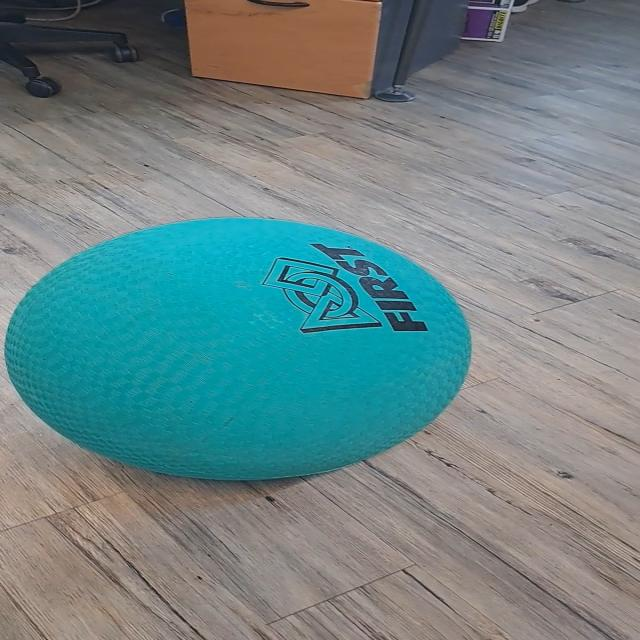ALGAE: (4, 215, 474, 482)
